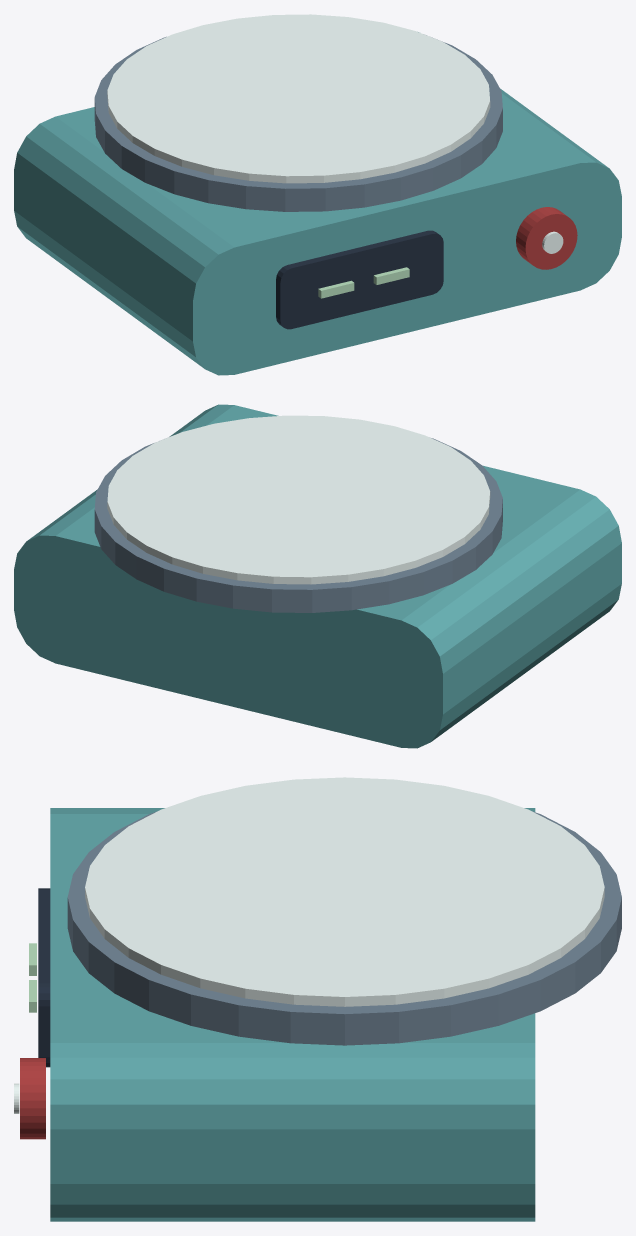
File: scale.glb
3 renders of one model, top to bottom at view 1: azimuth 30°, elevation 25°; view 2: azimuth 150°, elevation 25°; view 3: azimuth 270°, elevation 25°, orthographic. The views are drawn at different scales.
Visible parts, largest first — view 1: base, plate face, weighing plate, screen, tare key; view 2: base, plate face, weighing plate; view 3: base, plate face, weighing plate, screen, tare key.
Boxes of the visible parts, x1,y1,x2,y2 form: base: (14,32,621,375); plate face: (107,14,490,183); weighing plate: (94,35,502,211); screen: (276,230,443,329); tare key: (516,207,577,269); base: (14,404,621,748); plate face: (107,415,490,584); weighing plate: (94,438,502,612); base: (50,808,535,1221); plate face: (85,777,604,1006); weighing plate: (67,811,621,1045); screen: (38,888,50,1067); tare key: (20,1058,45,1139).
Bounding box in the file's own units: 1.55 × 0.545 × 1.4.
